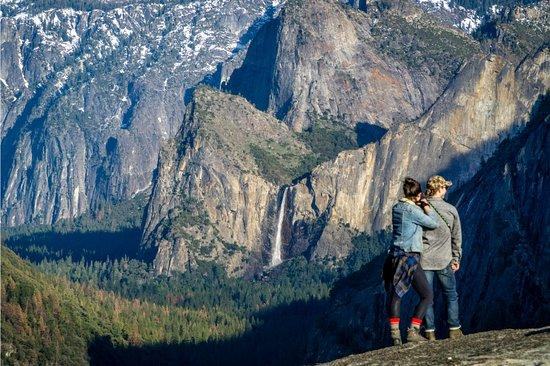person: (404, 175, 468, 340), (380, 176, 438, 346)
